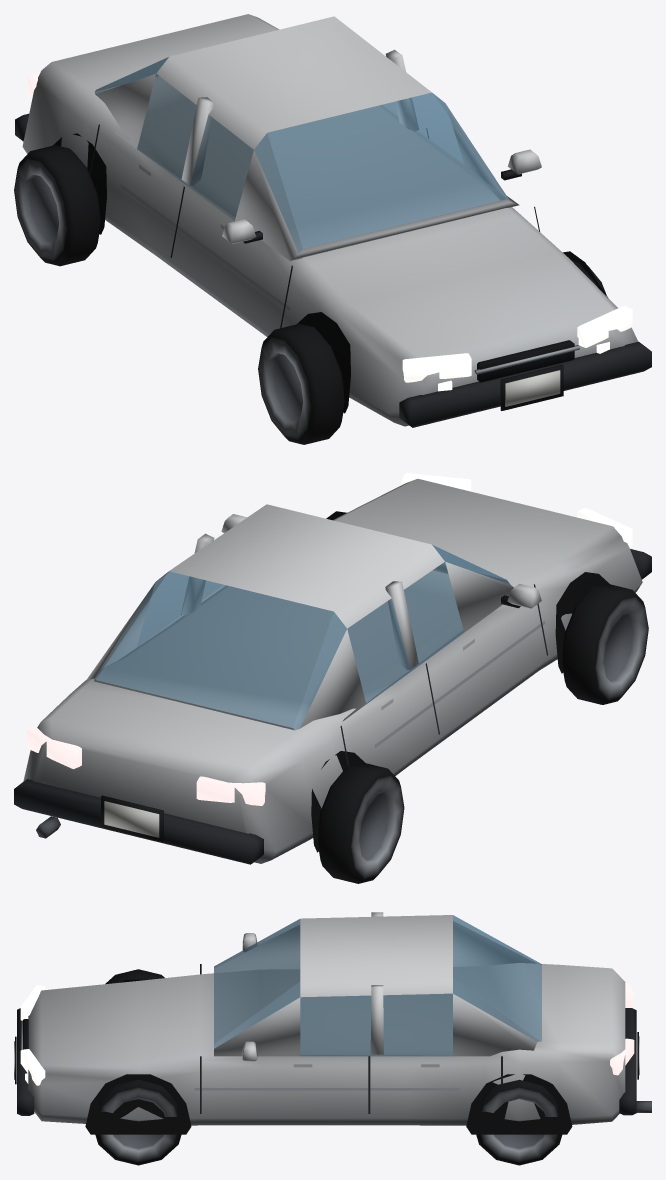
File: sedan_a.glb
3 renders of one model, top to bottom at view 1: azimuth 30°, elevation 25°; view 2: azimuth 150°, elevation 25°; view 3: azimuth 270°, elevation 25°, orthographic. The views are drawn at different scales.
Visible parts, largest first — view 1: sedan_a; view 2: sedan_a; view 3: sedan_a.
Boxes of the visible parts, x1,y1,x2,y2 form: sedan_a: [14, 14, 651, 444]; sedan_a: [14, 473, 651, 883]; sedan_a: [14, 912, 651, 1165].
Bounding box in the file's own units: 2.2 × 1.41 × 4.81.
